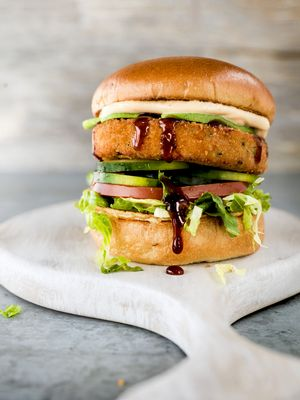soup: (74, 56, 276, 272)
